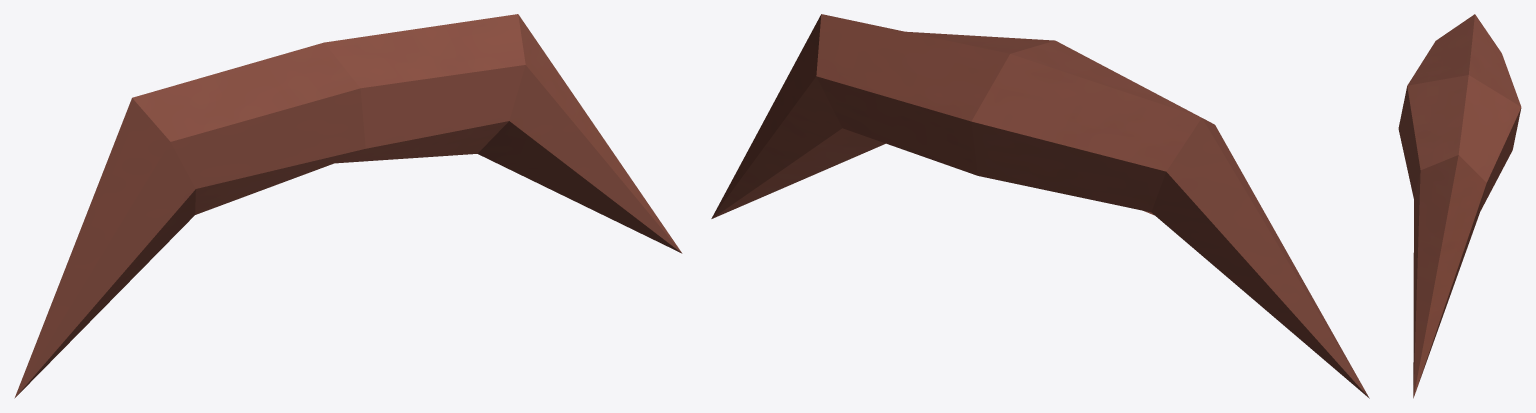
File: Mustache3.FBX
The picture shows the model from 3 angles, left to right: view 1: azimuth 30°, elevation 25°; view 2: azimuth 150°, elevation 25°; view 3: azimuth 270°, elevation 25°; orthographic projection. The views are drawn at different scales.
Parts seen in each view (by area): view 1: Mustache3; view 2: Mustache3; view 3: Mustache3.
Part boxes in pixels (x1=…): Mustache3: x1=14, y1=14, x2=682, y2=398; Mustache3: x1=711, y1=14, x2=1369, y2=398; Mustache3: x1=1398, y1=14, x2=1521, y2=398.
Bounding box in the file's own units: 132 × 28.04 × 51.03.
Materials: 1 (1 with a texture image).
